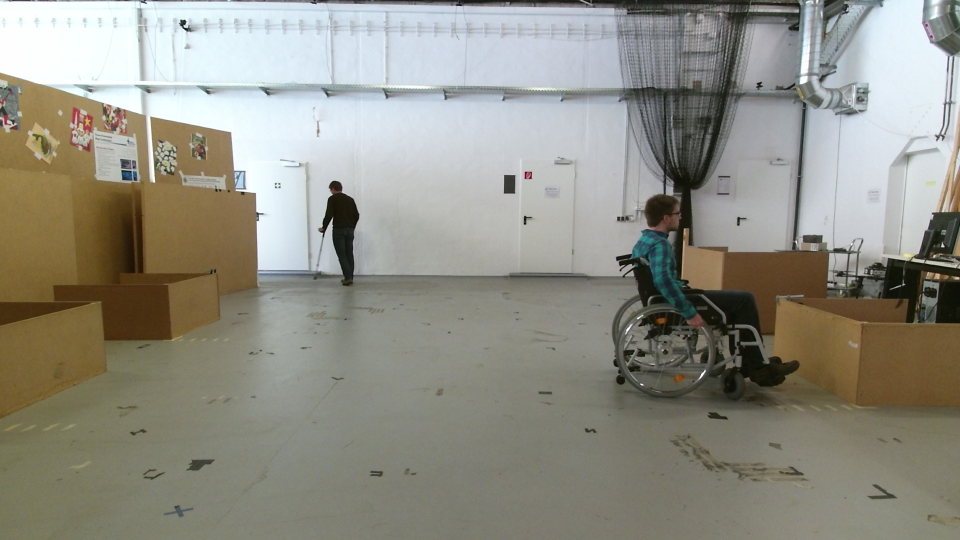crutches: (317, 173, 377, 301)
wheelchair: (605, 184, 789, 402)
